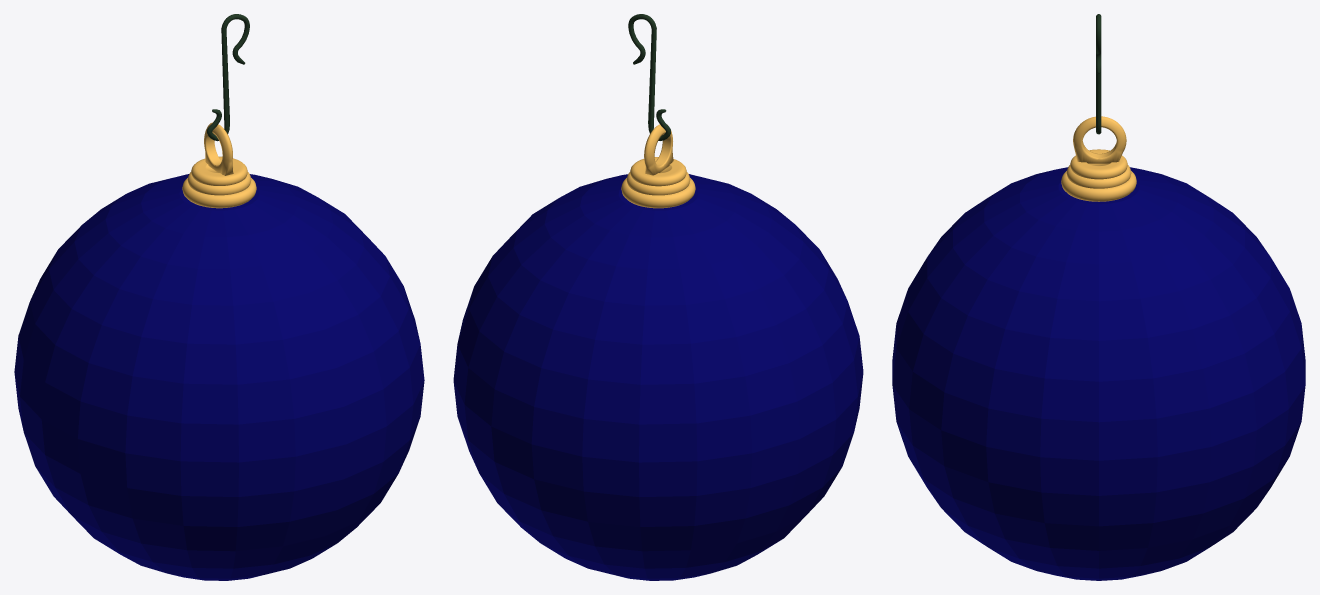
Rendered from Pallina_natalizia_08.fbx.
3 views of the same model, side by side, from view 1: azimuth 30°, elevation 25°; view 2: azimuth 150°, elevation 25°; view 3: azimuth 270°, elevation 25° (orthographic).
Visible parts, largest first — view 1: Pallina_natalizia_08; view 2: Pallina_natalizia_08; view 3: Pallina_natalizia_08.
Part boxes in pixels (x1=…): Pallina_natalizia_08: x1=14, y1=14, x2=424, y2=580; Pallina_natalizia_08: x1=453, y1=14, x2=863, y2=580; Pallina_natalizia_08: x1=892, y1=14, x2=1305, y2=580.
Bounding box in the file's own units: 12.13 × 17.73 × 12.
